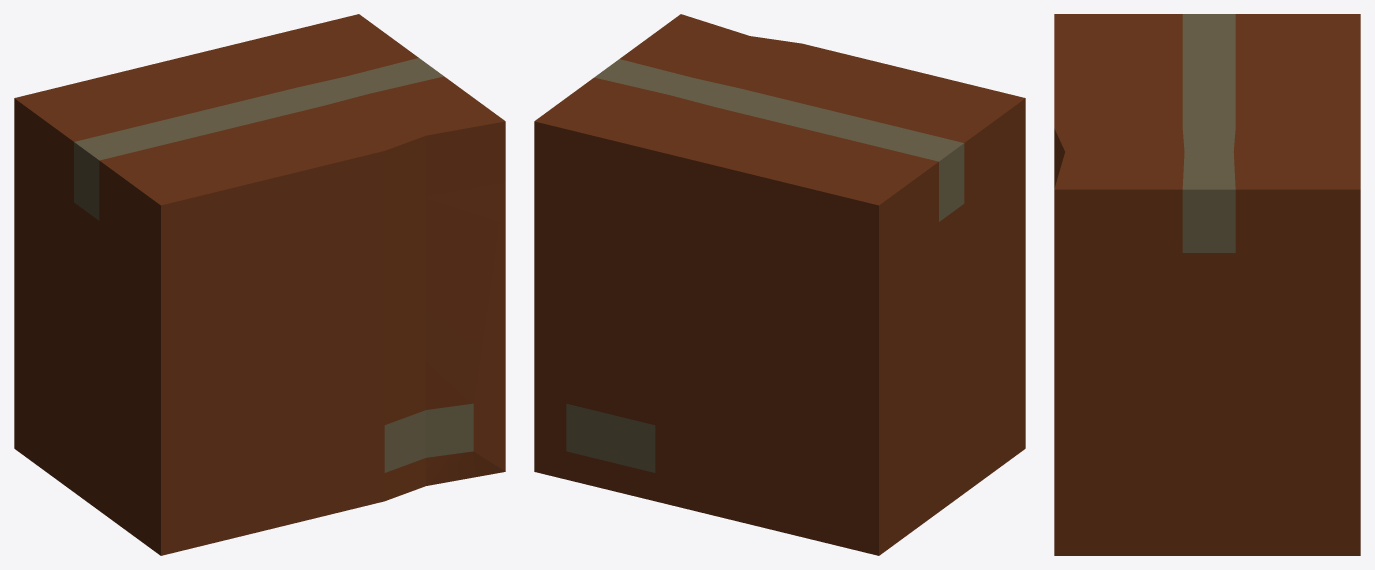
3 views of the same model, side by side, from view 1: azimuth 30°, elevation 25°; view 2: azimuth 150°, elevation 25°; view 3: azimuth 270°, elevation 25° (orthographic). The views are drawn at different scales.
Parts seen in each view (by area): view 1: CardboardBoxes_2.009_Cube.059; view 2: CardboardBoxes_2.009_Cube.059; view 3: CardboardBoxes_2.009_Cube.059.
Part boxes in pixels (box(x1,y1,x2,y2)): CardboardBoxes_2.009_Cube.059: box(14, 14, 505, 555); CardboardBoxes_2.009_Cube.059: box(534, 14, 1025, 555); CardboardBoxes_2.009_Cube.059: box(1054, 14, 1360, 555).
Size of the model in its own units: 322 by 313 by 237.
